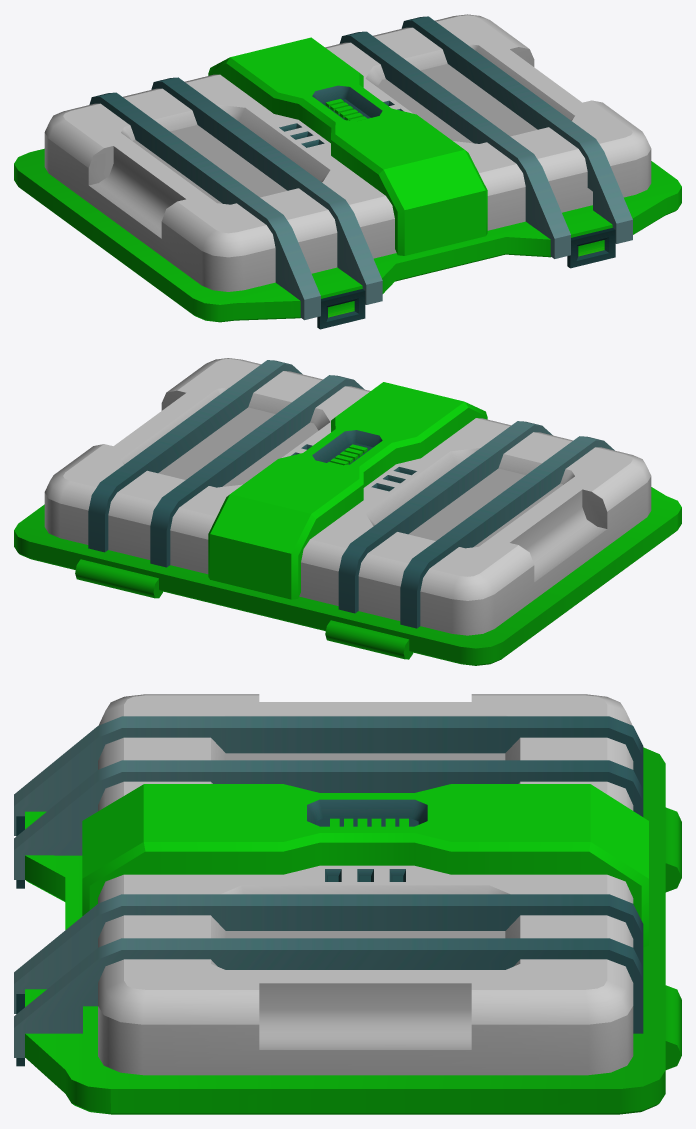
The model's file is Container_10_Cap.fbx.
The picture shows the model from 3 angles, top to bottom: view 1: azimuth 30°, elevation 25°; view 2: azimuth 150°, elevation 25°; view 3: azimuth 270°, elevation 25°; orthographic projection. The views are drawn at different scales.
Visible parts, largest first — view 1: Container_10_Cap; view 2: Container_10_Cap; view 3: Container_10_Cap.
Part boxes in pixels (bbox=[...]): Container_10_Cap: bbox=[14, 14, 681, 329]; Container_10_Cap: bbox=[14, 358, 681, 665]; Container_10_Cap: bbox=[14, 694, 681, 1114].
Bounding box in the file's own units: 67.19 × 13.49 × 55.06.
